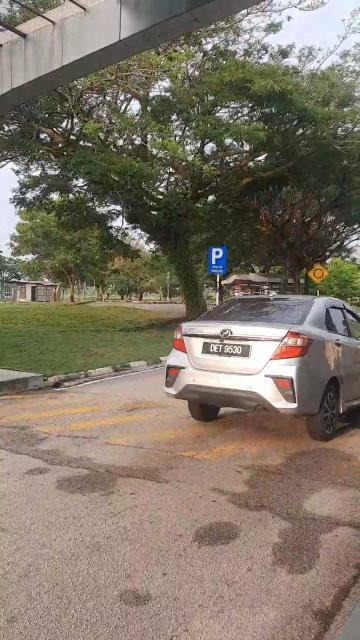License_Plate: (200, 341, 254, 361)
car: (165, 288, 360, 446)
